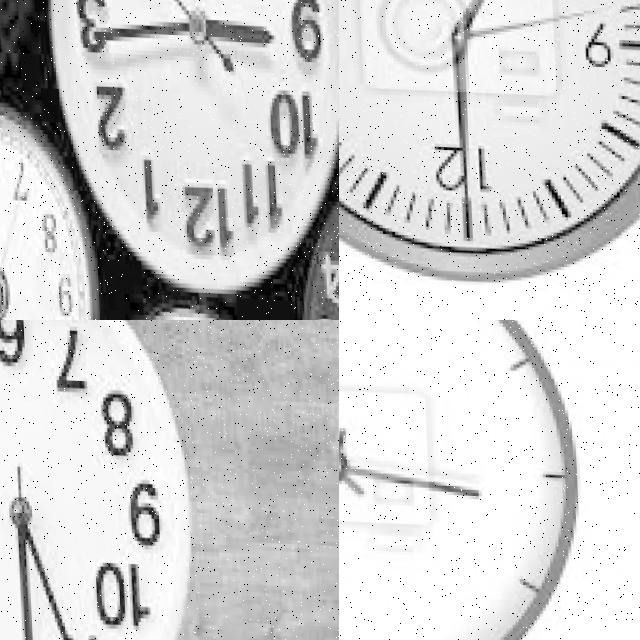Clocks-images: (38, 1, 340, 302), (340, 1, 640, 290), (340, 321, 583, 640), (1, 321, 194, 640), (1, 99, 96, 321), (288, 168, 340, 321)
